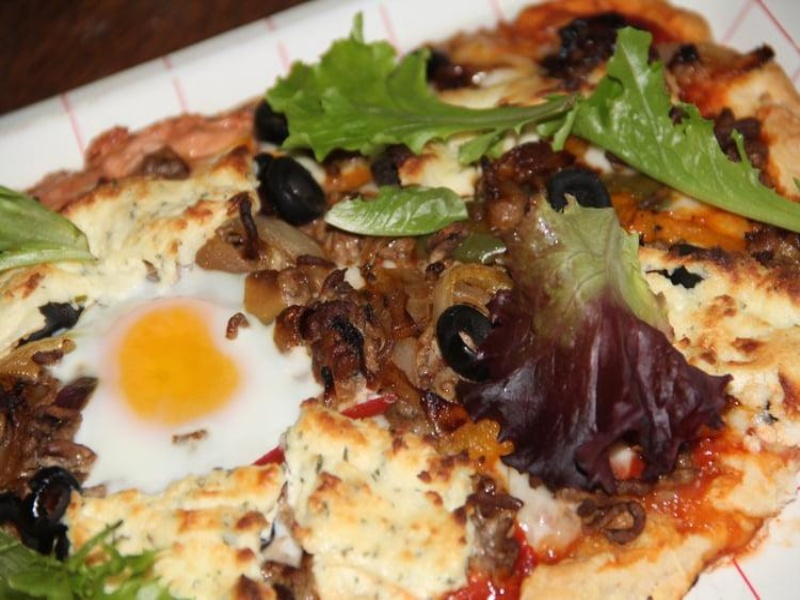oeuf: (91, 294, 262, 439)
